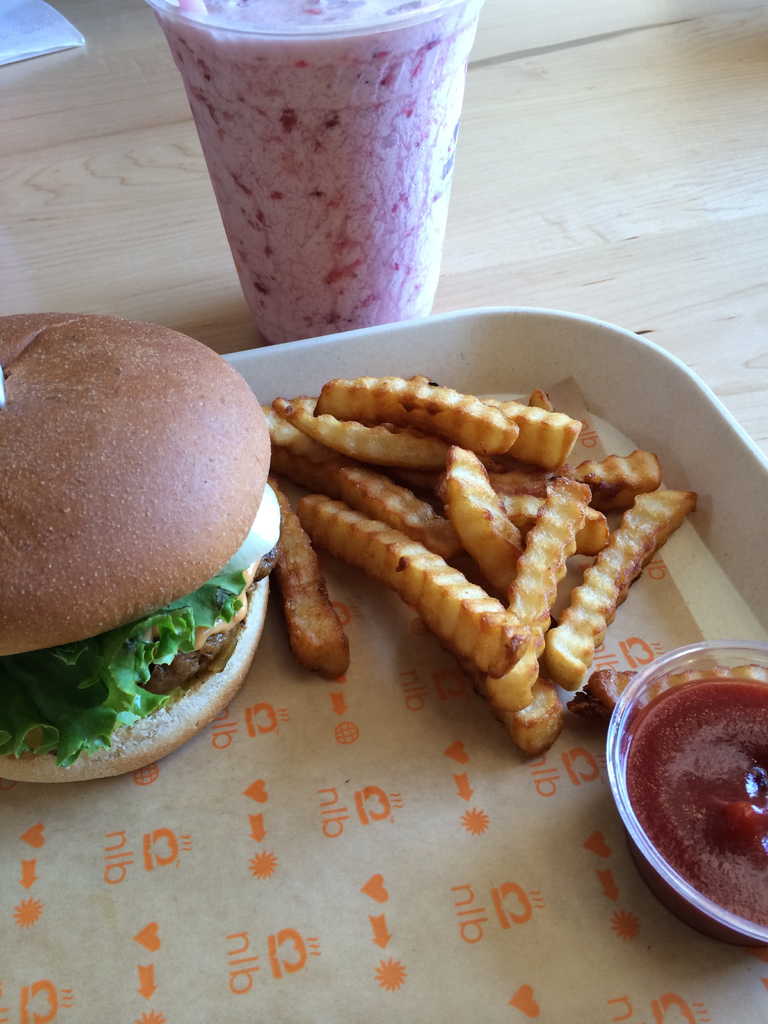French fries: (250, 360, 707, 771)
